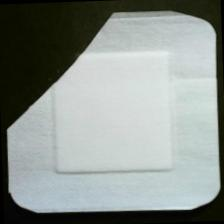Cut: (1, 6, 224, 218)
